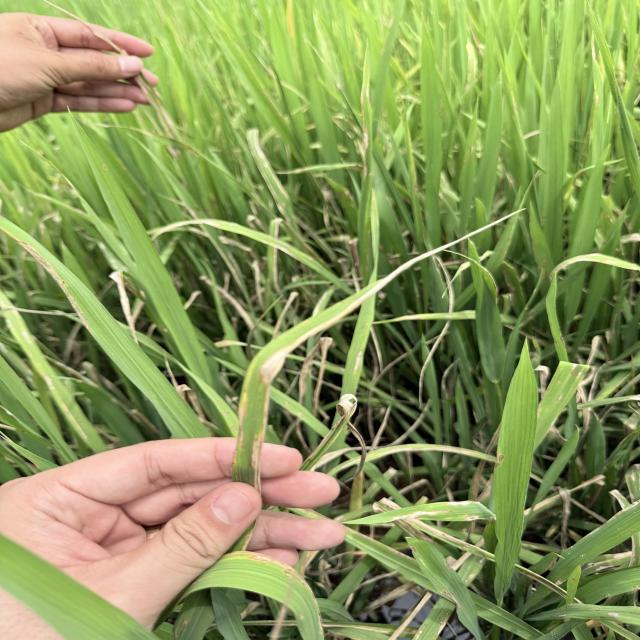Chay bia la: (251, 211, 526, 484)
